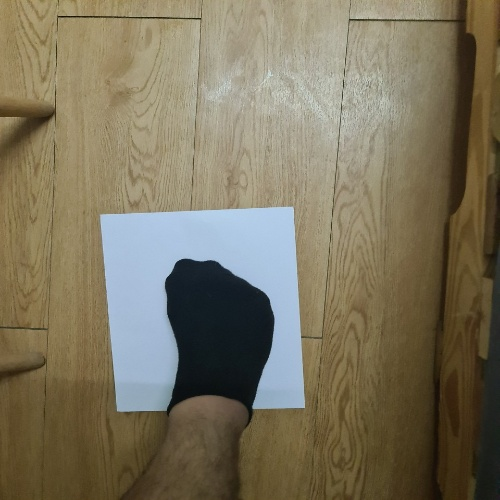Top_Foot: (69, 192, 336, 440)
